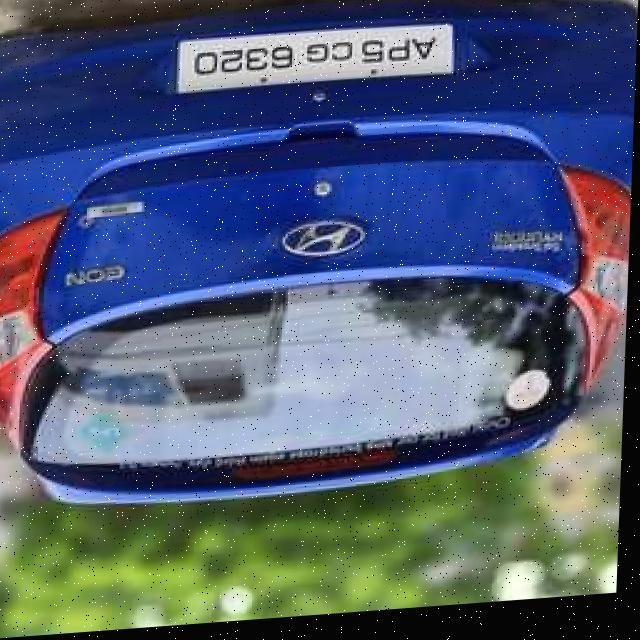plate: (176, 26, 458, 100)
